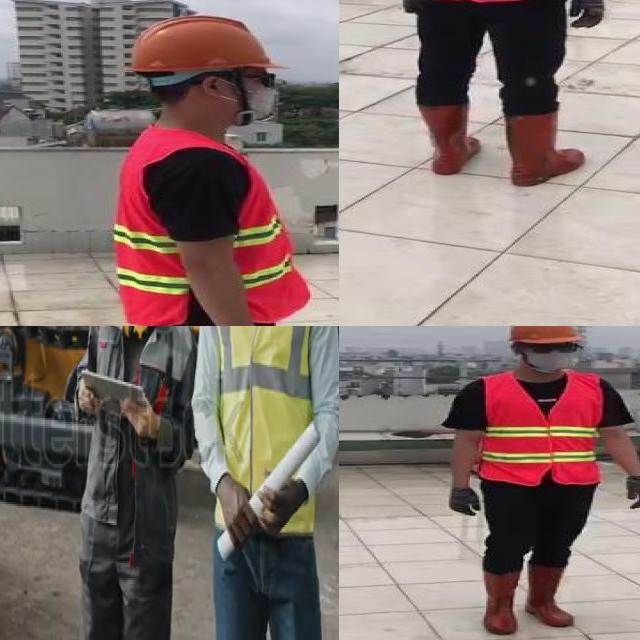Ear-protection: (125, 326, 155, 339)
boots: (501, 111, 588, 185), (407, 100, 483, 178), (527, 562, 577, 627), (479, 566, 523, 635)
face_mask: (224, 72, 291, 120), (522, 340, 580, 373)
glasses: (527, 339, 582, 356)
hand_glove: (566, 0, 614, 27), (445, 488, 484, 518), (623, 476, 640, 512)
head_helmet: (124, 11, 282, 75), (504, 326, 584, 347)
person: (112, 8, 318, 326), (439, 326, 640, 640), (357, 0, 617, 183), (189, 326, 339, 640), (72, 326, 201, 640)
vest: (116, 126, 308, 326), (206, 326, 326, 518), (481, 370, 605, 486)
